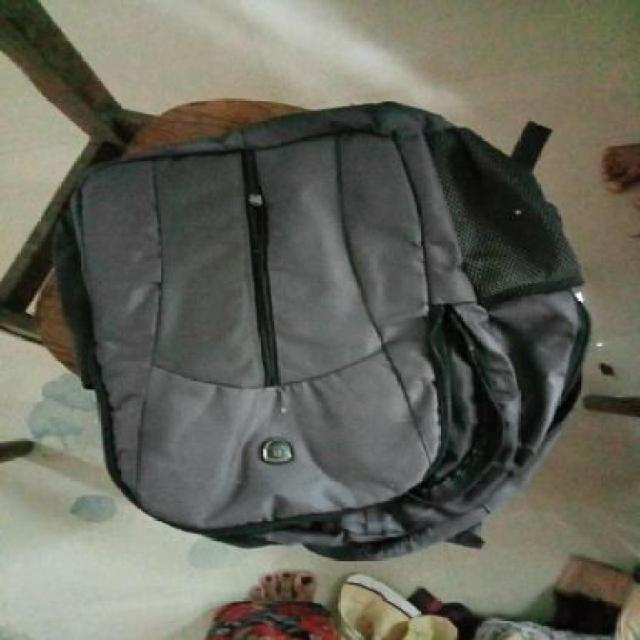backpack: (48, 94, 595, 566)
